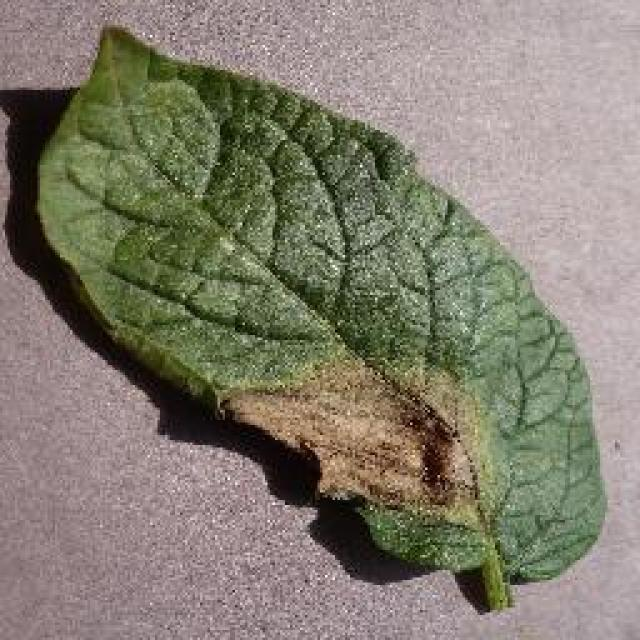late_blight: (30, 20, 610, 612)
